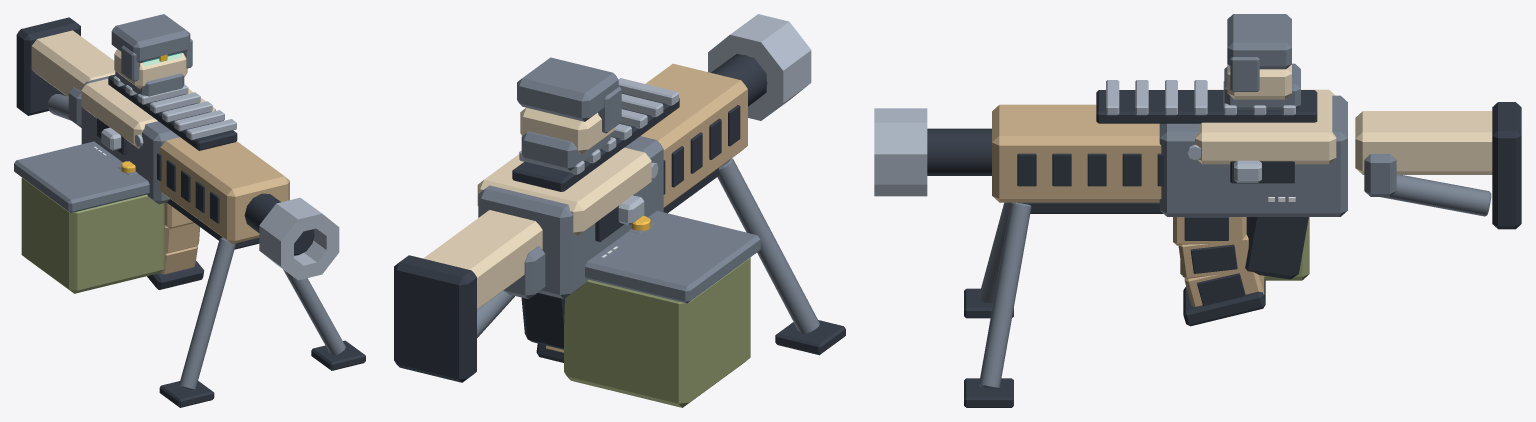
Rendered from Military_LMG_v001.fbx.
3 views of the same model, side by side, from view 1: azimuth 30°, elevation 25°; view 2: azimuth 150°, elevation 25°; view 3: azimuth 270°, elevation 25° (orthographic). The views are drawn at different scales.
Visible parts, largest first — view 1: Military_LMG__RECEIVER_MESH, Military_LMG__BIPOD_MESH, Military_LMG__MAGAZINE_MESH; view 2: Military_LMG__RECEIVER_MESH, Military_LMG__BIPOD_MESH; view 3: Military_LMG__RECEIVER_MESH, Military_LMG__MAGAZINE_MESH, Military_LMG__BIPOD_MESH.
Part boxes in pixels (left/top/right/bottom): Military_LMG__RECEIVER_MESH: left=14, top=14, right=339, bottom=293; Military_LMG__BIPOD_MESH: left=159, top=237, right=365, bottom=407; Military_LMG__MAGAZINE_MESH: left=147, top=202, right=204, bottom=289; Military_LMG__RECEIVER_MESH: left=394, top=14, right=811, bottom=407; Military_LMG__BIPOD_MESH: left=717, top=158, right=845, bottom=355; Military_LMG__RECEIVER_MESH: left=874, top=14, right=1521, bottom=280; Military_LMG__MAGAZINE_MESH: left=1173, top=217, right=1265, bottom=326; Military_LMG__BIPOD_MESH: left=964, top=202, right=1031, bottom=407.
Size of the model in its own units: 0.995 by 1.22 by 2.2.
